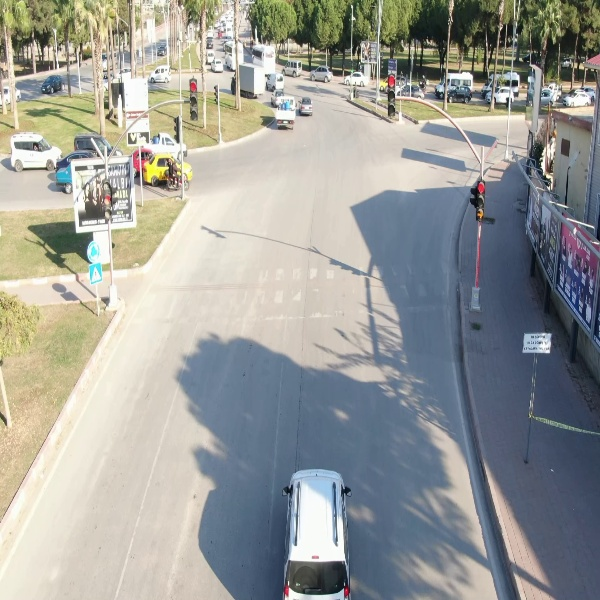car: (10, 133, 64, 174), (559, 89, 594, 109), (38, 72, 67, 96), (147, 62, 174, 83), (447, 85, 475, 104), (281, 58, 303, 81), (308, 64, 334, 83), (343, 72, 371, 87), (297, 96, 314, 115)
